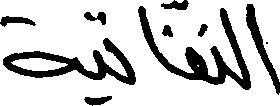X: (0, 11, 70, 82), (251, 0, 279, 99), (226, 0, 249, 94), (139, 0, 166, 73), (109, 35, 135, 104), (186, 0, 205, 85), (211, 3, 224, 89), (93, 7, 103, 105)
